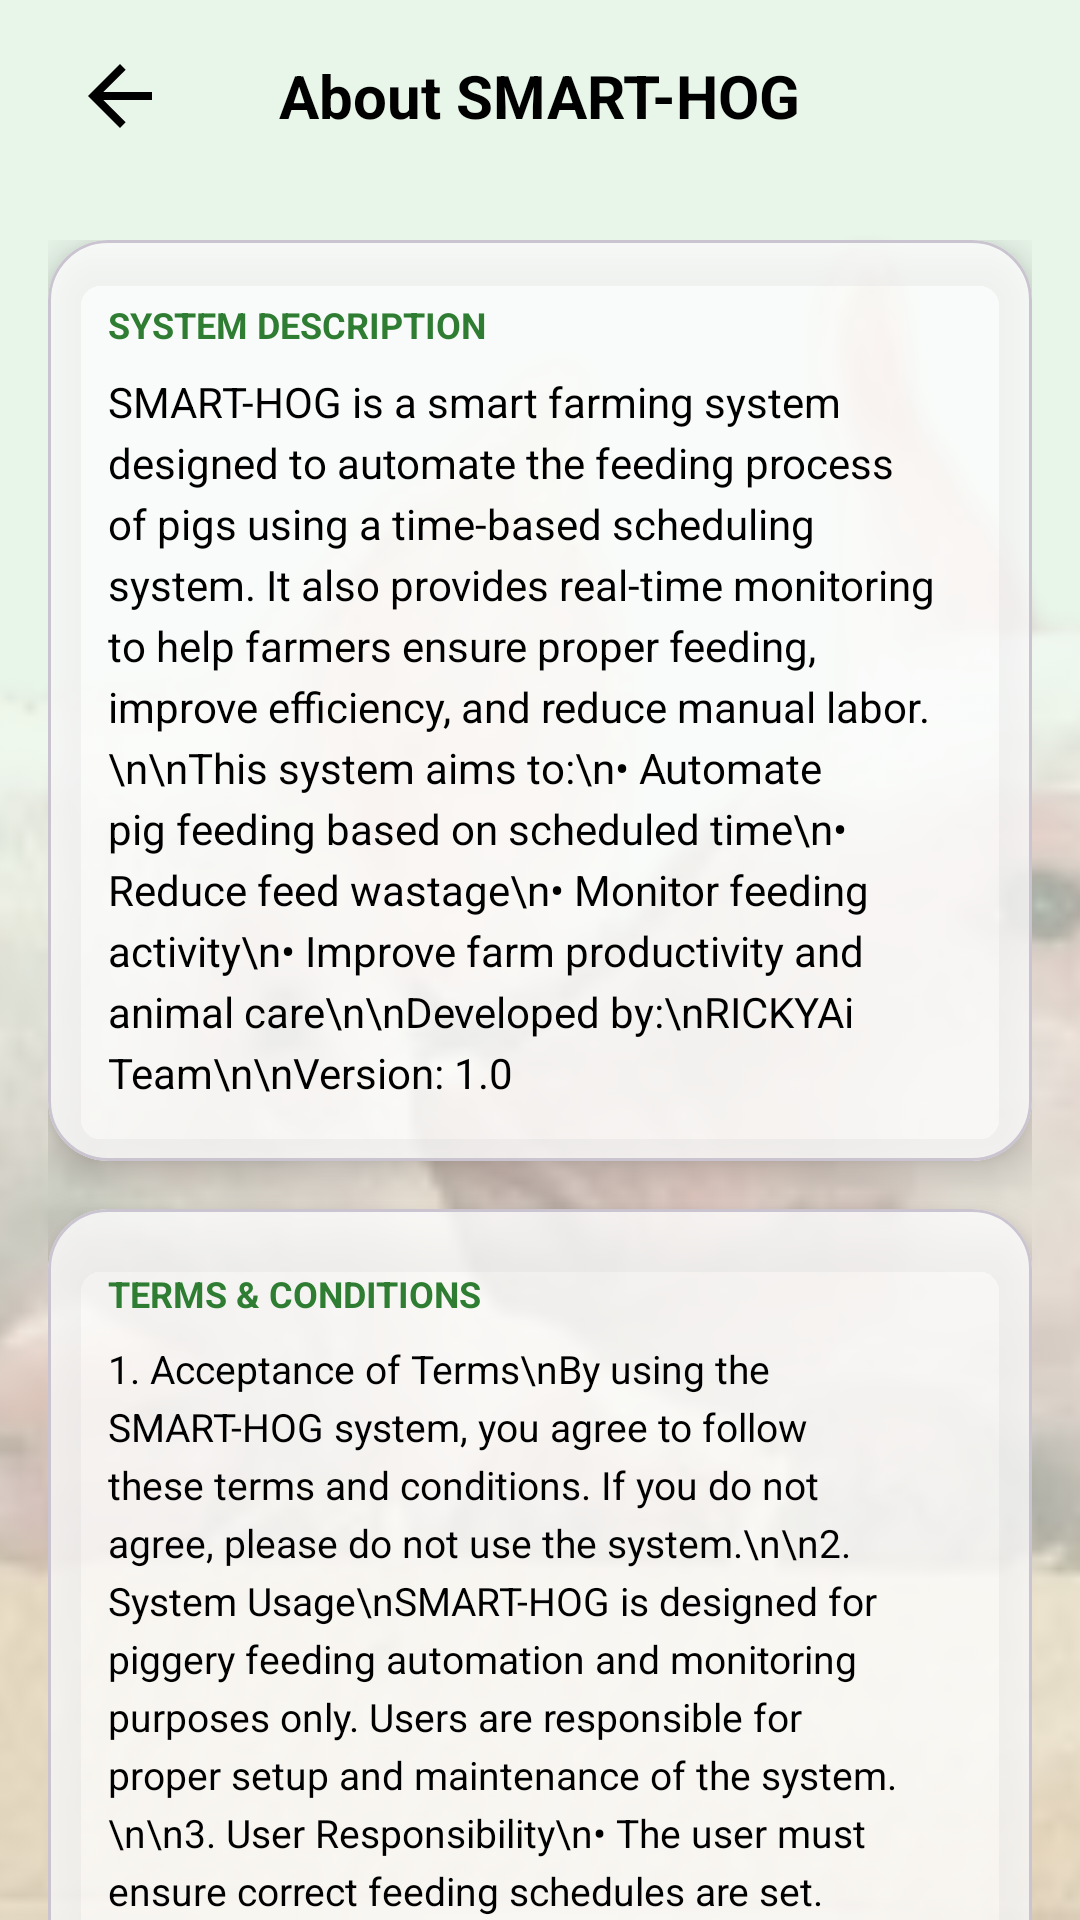

Icon click points for this 1080x1920 phone screenshot, format point (x, y):
back arrow: point (120, 96)
